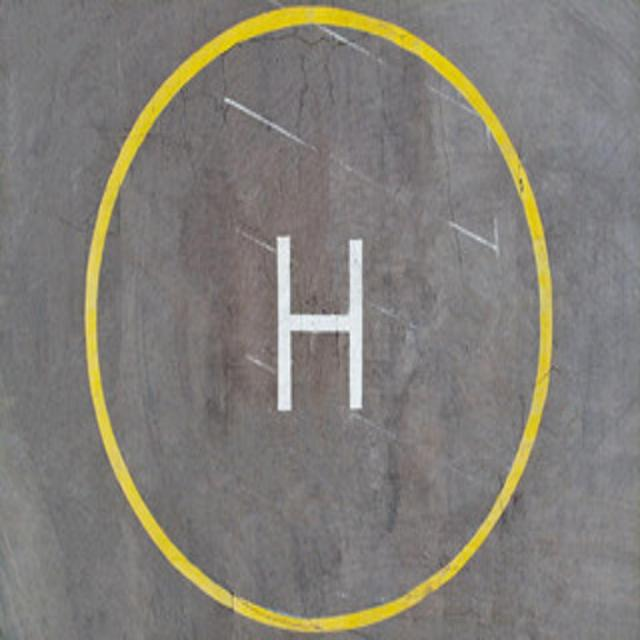helipad: (82, 3, 554, 635)
